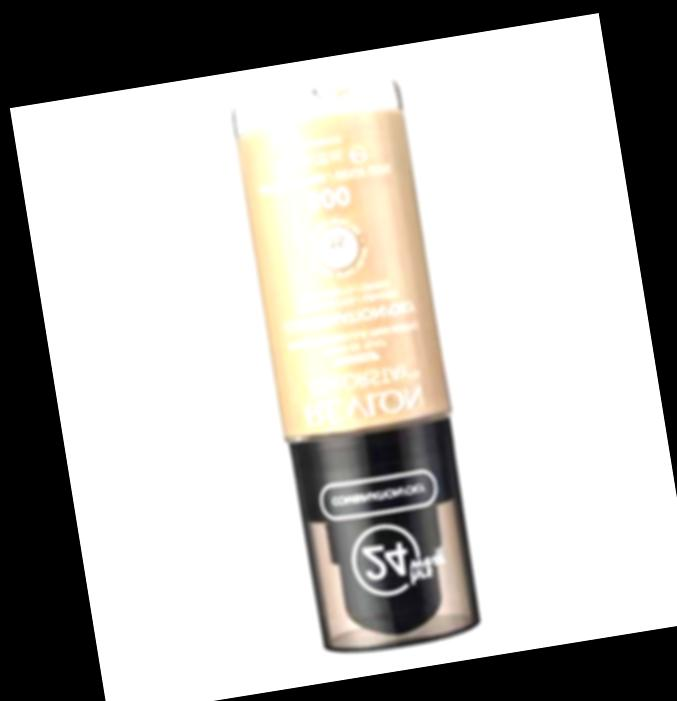cosmetic: (229, 78, 491, 659)
